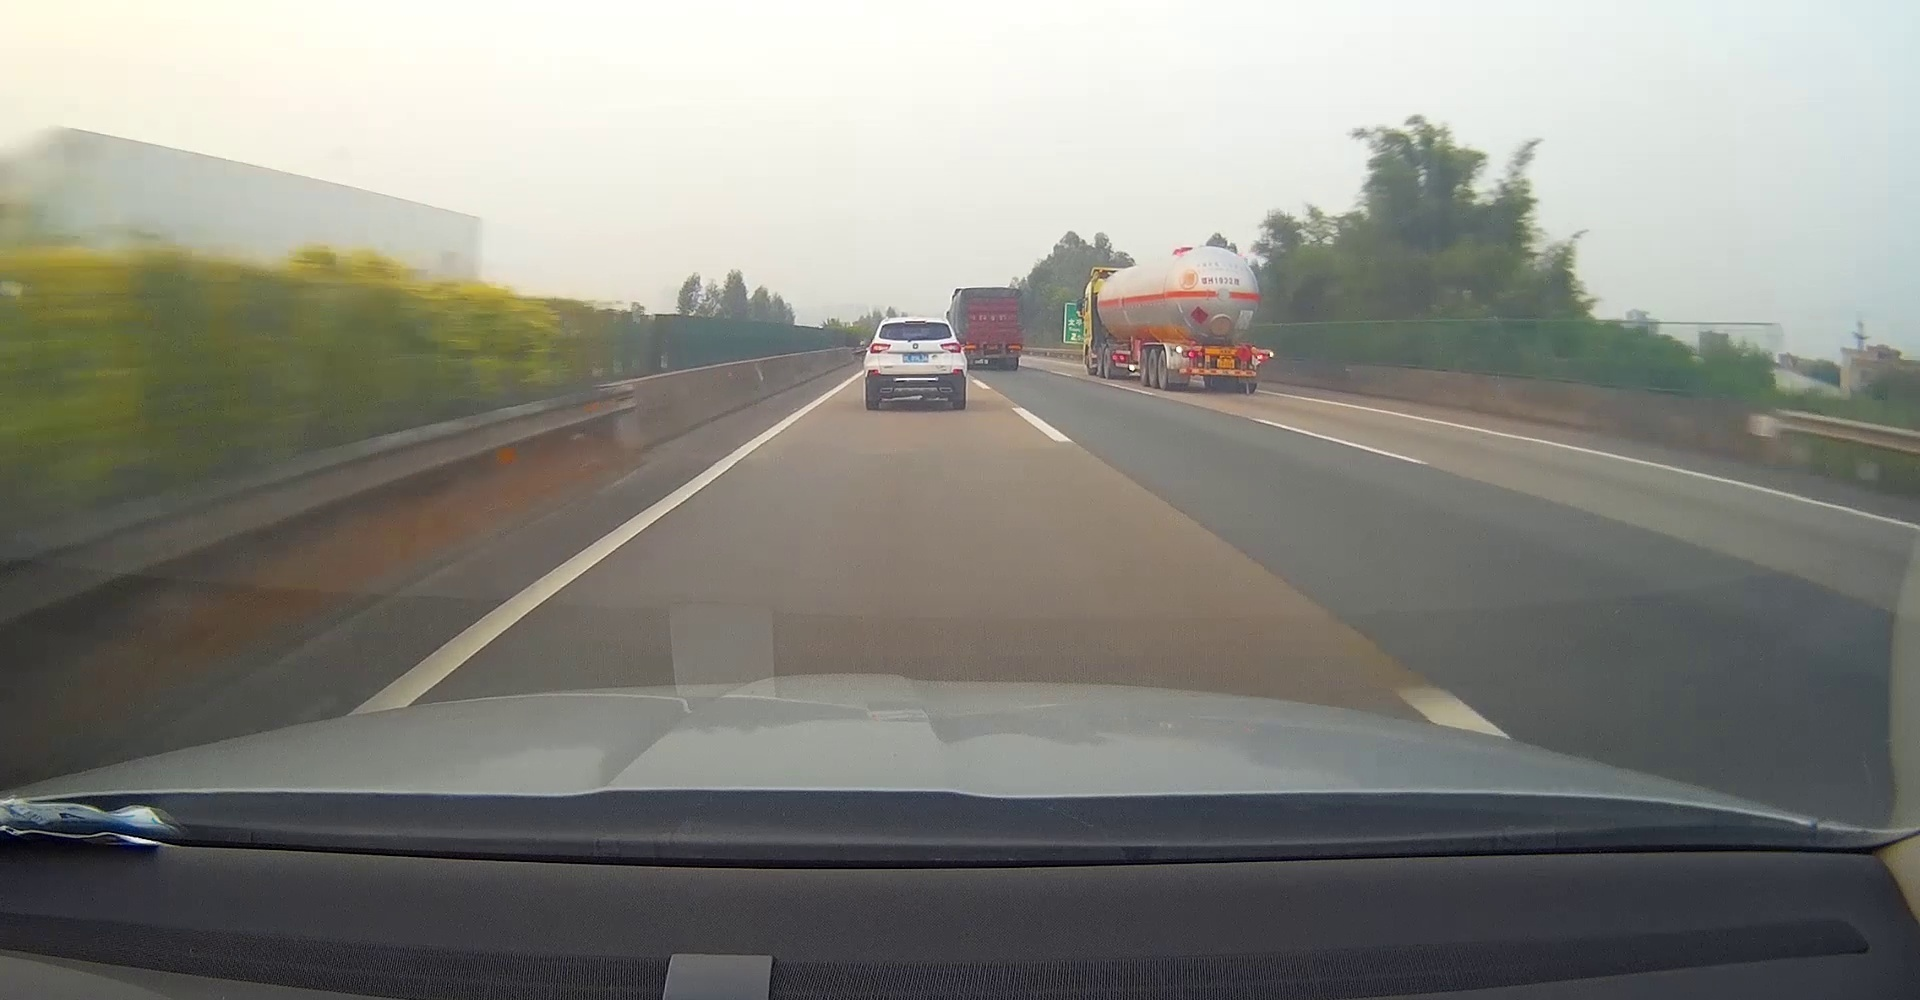L_light: (869, 343, 891, 354), (1182, 352, 1199, 357)
R_light: (940, 341, 961, 353), (1253, 354, 1267, 360)
T_light: (905, 320, 926, 325), (1219, 346, 1232, 352)
day-brake: (1164, 343, 1272, 393)
day-no: (865, 315, 968, 410)
